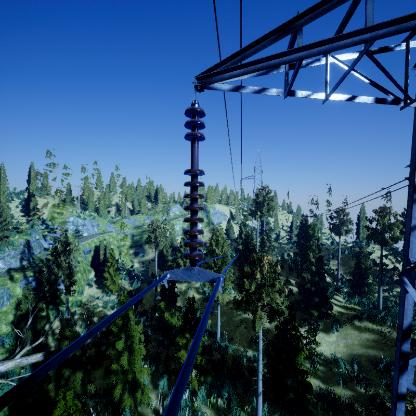insulator: (182, 106, 207, 265)
